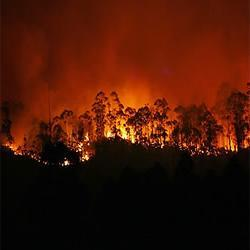fire: (107, 125, 140, 141), (79, 154, 92, 163)
